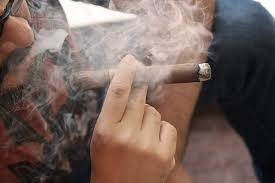cigarette: (72, 63, 214, 88)
